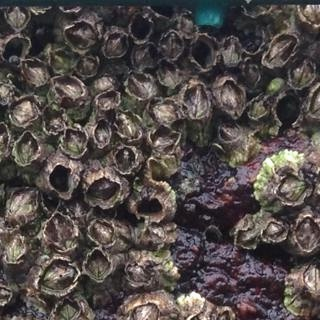Barnacle: (40, 256, 79, 292), (277, 171, 309, 207), (181, 81, 209, 120), (264, 35, 297, 66), (47, 214, 75, 250), (220, 80, 248, 116), (114, 111, 144, 141), (289, 55, 316, 88), (294, 215, 319, 249), (10, 190, 38, 219), (67, 24, 98, 50), (127, 70, 155, 98), (17, 134, 39, 167), (89, 177, 119, 200), (90, 220, 117, 245), (63, 128, 87, 156), (241, 56, 263, 86), (19, 60, 47, 83), (152, 127, 176, 153), (11, 99, 36, 123), (87, 250, 108, 278), (158, 60, 178, 89), (302, 260, 319, 294), (219, 118, 241, 144), (54, 76, 81, 97), (93, 118, 111, 148), (5, 233, 24, 261), (128, 263, 152, 285), (154, 101, 178, 123), (116, 146, 137, 171), (250, 98, 271, 123), (164, 31, 183, 58), (105, 32, 127, 55), (223, 37, 241, 65), (133, 46, 155, 68), (6, 5, 27, 28), (96, 90, 120, 110), (132, 302, 160, 319), (49, 53, 71, 73), (45, 109, 65, 130), (300, 1, 319, 23), (144, 221, 165, 240), (61, 302, 82, 319), (79, 57, 98, 75), (238, 229, 258, 246), (0, 80, 12, 106), (266, 222, 285, 238), (96, 75, 117, 89), (0, 287, 11, 304), (216, 312, 231, 319)
